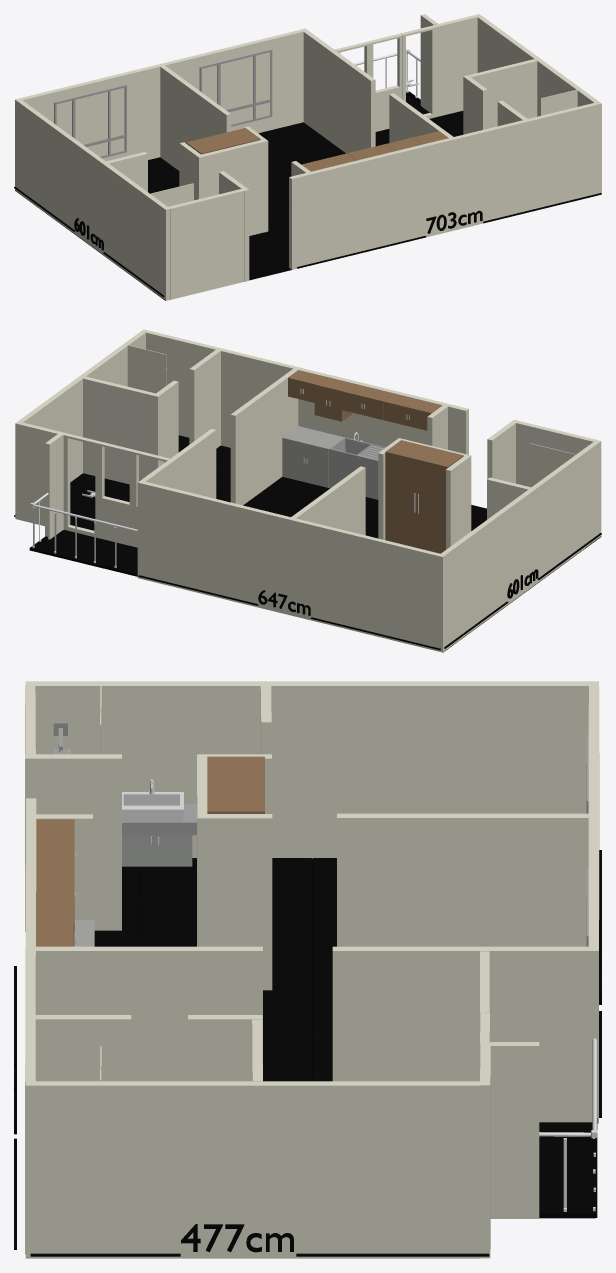
The model's file is 2brBig.glb.
3 views of the same model, one above another, from view 1: azimuth 30°, elevation 25°; view 2: azimuth 150°, elevation 25°; view 3: azimuth 270°, elevation 25° (orthographic). The views are drawn at different scales.
Visible parts, largest first — view 1: backwall, frontwall, leftwall, frontwall.001, rightwall, frontwall2, floor, middlewall, entrywall, rightwall.001, frontwall.002, brwall.001 (+18 smaller); view 2: backwall, leftwall, rightwall, tallCabinet, brwall.001, frontwall.001, frontwall, rightwall.001, frontwall.002, floor, middlewall, Plane (+24 smaller); view 3: rightwall.001, leftwall, rightwall, middlewall, floor, middlewall2, leftentrywall, smallwall, leftentrywall.001, Plane.001, crwall.001, tallCabinet (+18 smaller).
Part boxes in pixels (x1,y1,x2,y2): backwall: (20, 29, 303, 161); frontwall: (289, 138, 451, 269); leftwall: (15, 98, 170, 300); frontwall.001: (449, 102, 597, 230); rightwall: (301, 28, 455, 230); frontwall2: (168, 189, 244, 299); floor: (15, 122, 345, 300); middlewall: (160, 65, 231, 170); entrywall: (199, 140, 268, 235); rightwall.001: (477, 16, 601, 194); frontwall.002: (433, 14, 481, 116); brwall.001: (468, 59, 537, 128); backwall: (142, 481, 440, 651); leftwall: (438, 440, 601, 652); rightwall: (137, 367, 300, 579); tallCabinet: (385, 440, 463, 553); brwall.001: (83, 376, 155, 484); frontwall.001: (146, 330, 298, 447); frontwall: (298, 368, 468, 454); rightwall.001: (18, 329, 148, 481); frontwall.002: (15, 421, 66, 529); floor: (243, 476, 601, 652); middlewall: (291, 466, 365, 535); Plane: (70, 435, 230, 530); rightwall.001: (25, 1081, 480, 1258); leftwall: (25, 681, 598, 858); rightwall: (25, 946, 598, 1123); middlewall: (337, 813, 588, 946); floor: (94, 858, 336, 1081); middlewall2: (197, 814, 272, 990); leftentrywall: (25, 754, 121, 931); smallwall: (490, 1042, 539, 1218); leftentrywall.001: (34, 1015, 131, 1081); Plane.001: (539, 1118, 597, 1218); crwall.001: (188, 1015, 262, 1081); tallCabinet: (207, 756, 264, 813).
Bounding box in the file's own units: 10.1 × 2.02 × 6.17.
